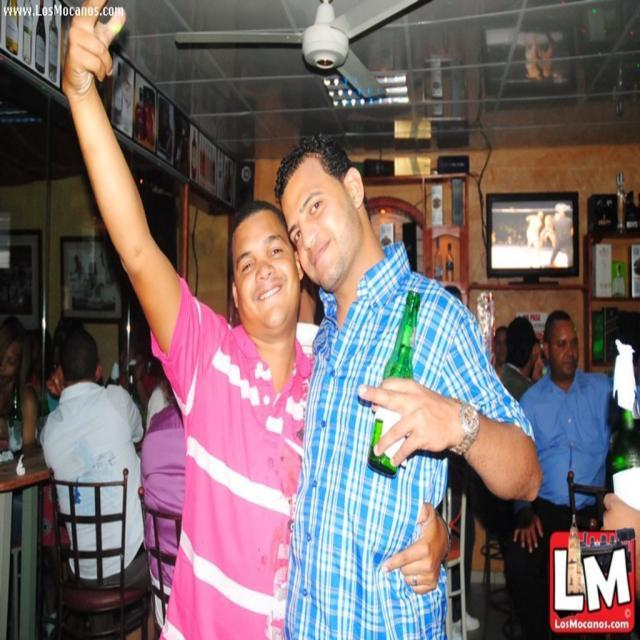fan_off: (175, 0, 432, 99)
